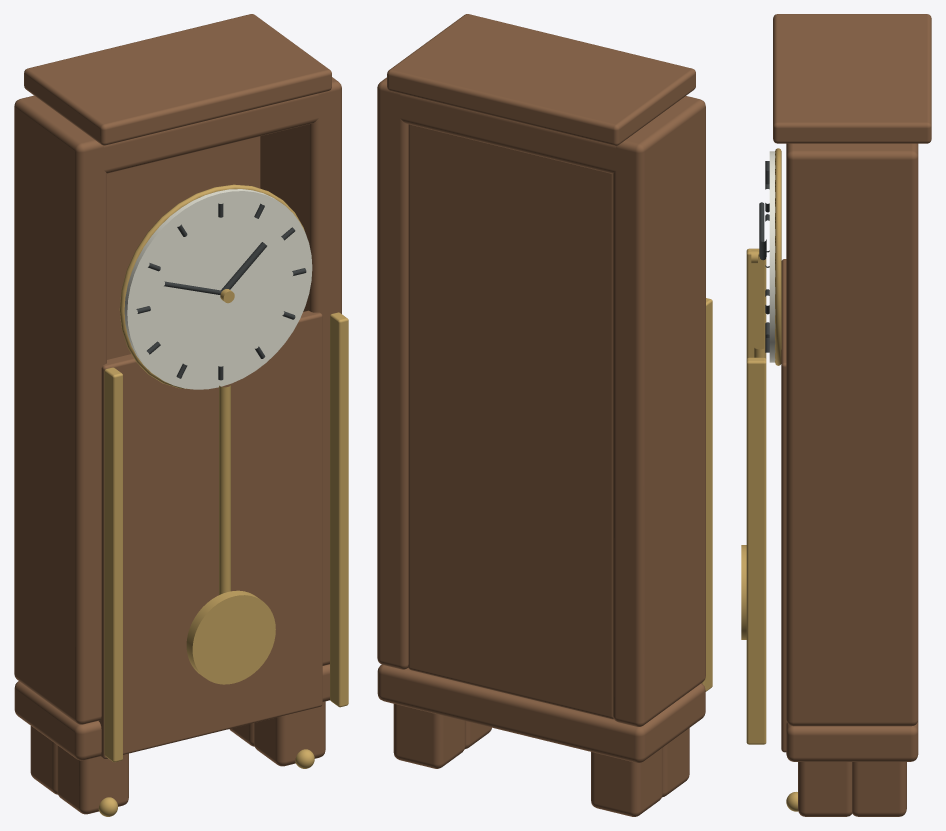
The model's file is clockmaker-and-watch-repair-pendulum-wall-clock-7a6af473__30638.glb.
3 views of the same model, side by side, from view 1: azimuth 30°, elevation 25°; view 2: azimuth 150°, elevation 25°; view 3: azimuth 270°, elevation 25° (orthographic).
Parts seen in each view (by area): view 1: pendulum-wall-clock; view 2: pendulum-wall-clock; view 3: pendulum-wall-clock.
Boxes of the visible parts, <box> form: pendulum-wall-clock: <box>14,14,348,816</box>; pendulum-wall-clock: <box>377,14,712,816</box>; pendulum-wall-clock: <box>741,14,931,816</box>.
Size of the model in its own units: 0.46 by 1.16 by 0.288.
